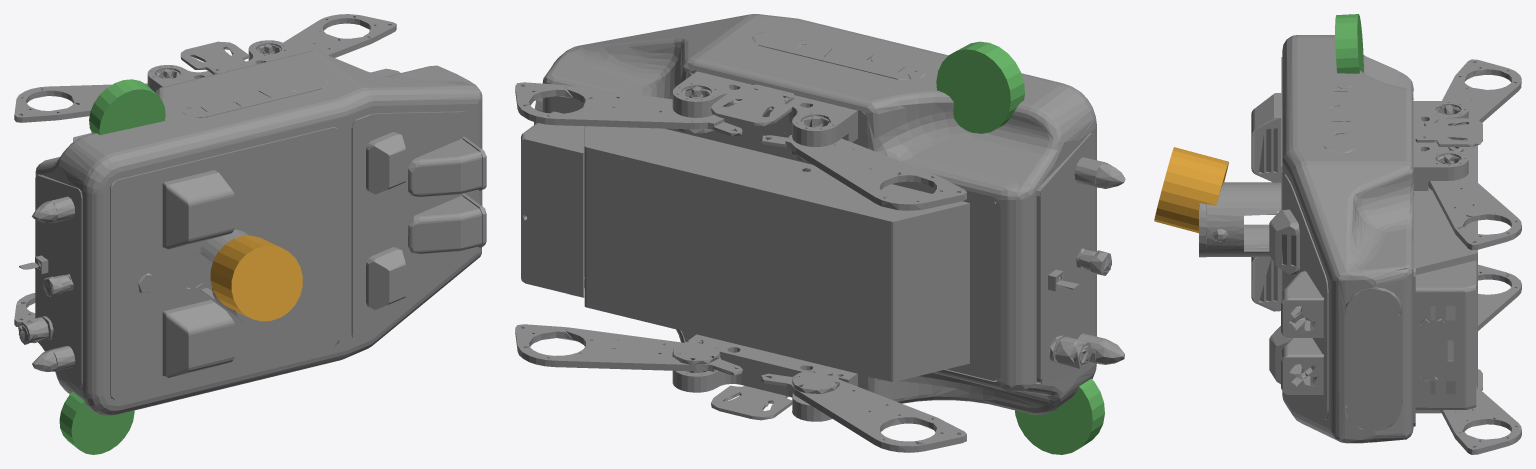
Rendered from rbwatcher_layout.glb.
3 renders of one model, left to right at view 1: azimuth 30°, elevation 25°; view 2: azimuth 150°, elevation 25°; view 3: azimuth 270°, elevation 25°, orthographic. The views are drawn at different scales.
Visible parts, largest first — view 1: rbwatcher_chassis.stl, world; view 2: rbwatcher_chassis.stl, world; view 3: rbwatcher_chassis.stl, world.
Boxes of the visible parts, box(x1,y1,x2,y2) form: rbwatcher_chassis.stl: box(14, 14, 486, 415); world: box(59, 79, 302, 454); rbwatcher_chassis.stl: box(515, 14, 1125, 452); world: box(936, 41, 1104, 454); rbwatcher_chassis.stl: box(1199, 35, 1521, 454); world: box(1154, 14, 1363, 233).
Bounding box in the file's own units: 0.7104 × 0.5052 × 0.4916.
